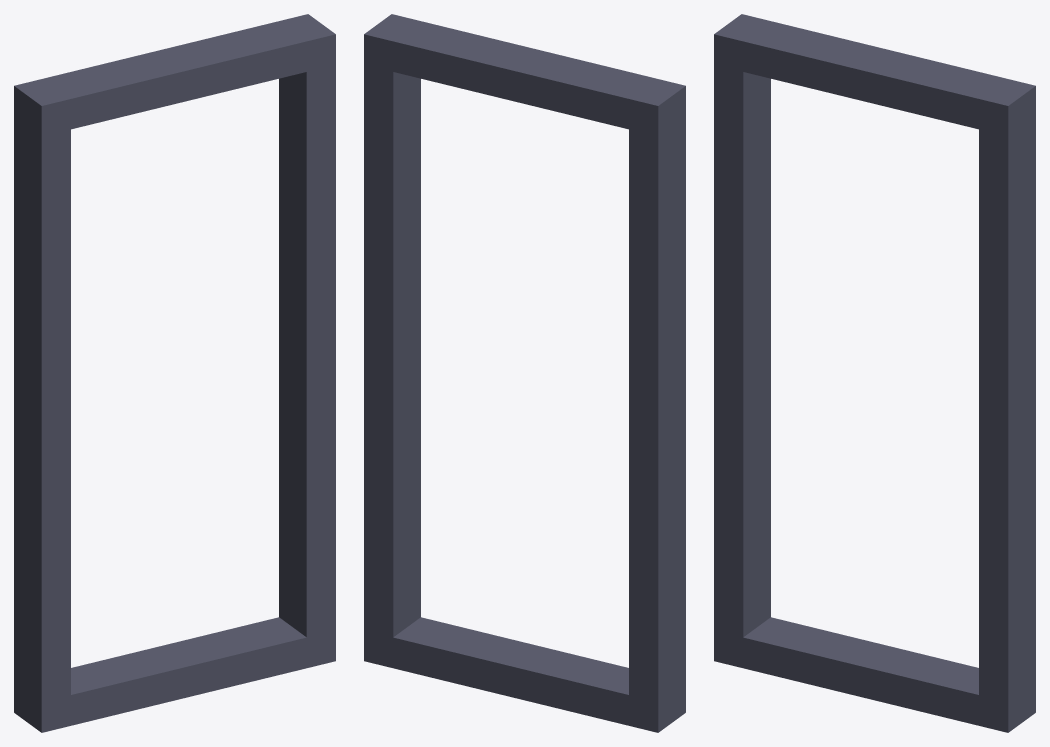
File: StreetDoorFrame_04.fbx
3 views of the same model, side by side, from view 1: azimuth 30°, elevation 25°; view 2: azimuth 150°, elevation 25°; view 3: azimuth 330°, elevation 25° (orthographic).
Parts seen in each view (by area): view 1: StreetDoorFrame_04; view 2: StreetDoorFrame_04; view 3: StreetDoorFrame_04.
Boxes of the visible parts, <box> form: StreetDoorFrame_04: <box>14,14,335,732</box>; StreetDoorFrame_04: <box>364,14,685,732</box>; StreetDoorFrame_04: <box>714,14,1035,732</box>.
Bounding box in the file's own units: 111 × 226 × 18.12.
